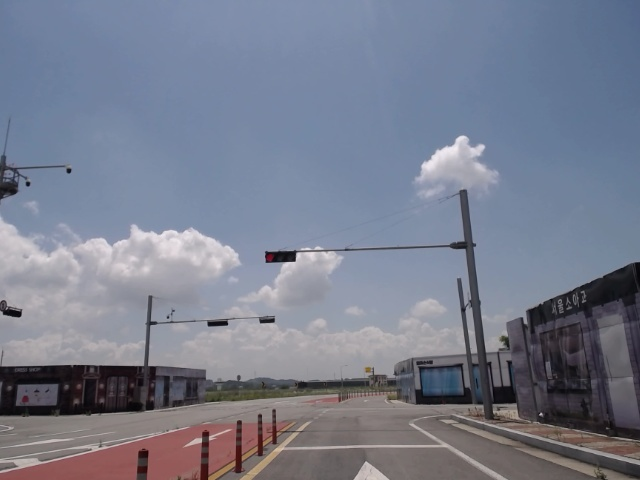red_3: (264, 251, 298, 263)
